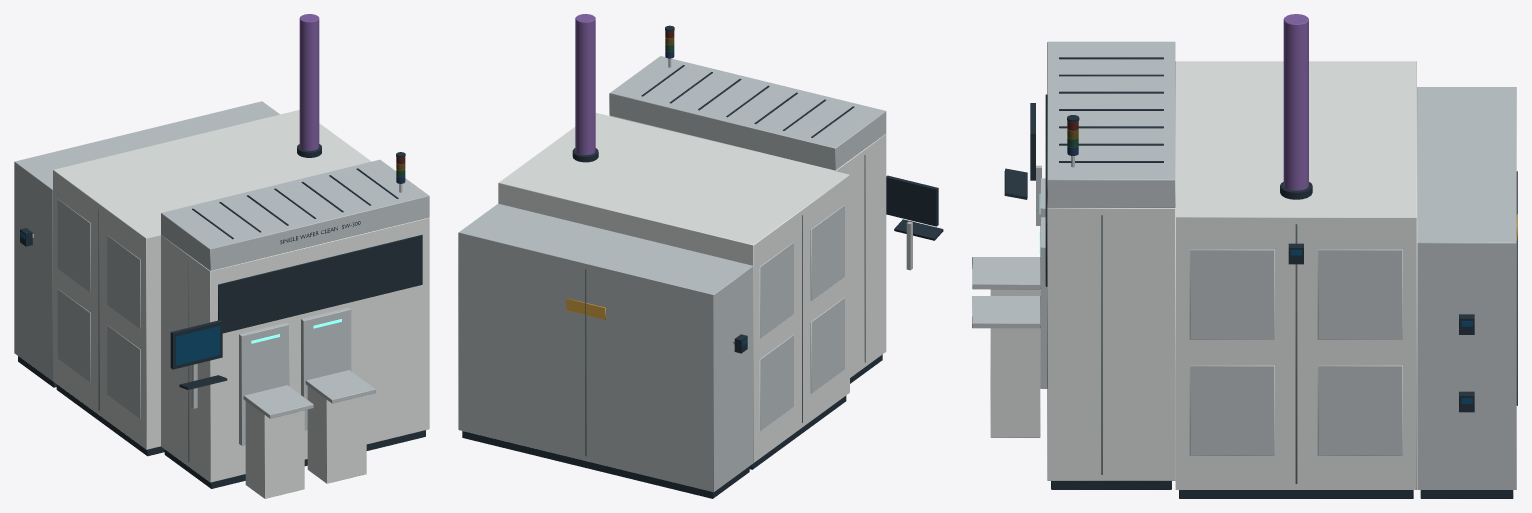
The model's file is fab1-tool-swc.glb.
3 views of the same model, side by side, from view 1: azimuth 30°, elevation 25°; view 2: azimuth 150°, elevation 25°; view 3: azimuth 270°, elevation 25° (orthographic). The views are drawn at different scales.
Visible parts, largest first — view 1: TOOL_SWC_EFEM, TOOL_SWC_Tower, TOOL_SWC_LoadPorts, TOOL_SWC_ChemCabinet, TOOL_SWC_Operator, TOOL_HMI_Screen; view 2: TOOL_SWC_ChemCabinet, TOOL_SWC_Tower, TOOL_SWC_EFEM, TOOL_SWC_Operator; view 3: TOOL_SWC_Tower, TOOL_SWC_EFEM, TOOL_SWC_ChemCabinet, TOOL_SWC_LoadPorts, TOOL_SWC_Operator.
Part boxes in pixels (bbox=[...]): TOOL_SWC_EFEM: bbox=[161, 159, 429, 488]; TOOL_SWC_Tower: bbox=[53, 14, 371, 456]; TOOL_SWC_LoadPorts: bbox=[239, 307, 375, 498]; TOOL_SWC_ChemCabinet: bbox=[14, 101, 279, 387]; TOOL_SWC_Operator: bbox=[170, 320, 227, 408]; TOOL_HMI_Screen: bbox=[176, 326, 219, 365]; TOOL_SWC_ChemCabinet: bbox=[458, 203, 753, 498]; TOOL_SWC_Tower: bbox=[498, 14, 849, 469]; TOOL_SWC_EFEM: bbox=[609, 56, 886, 383]; TOOL_SWC_Operator: bbox=[886, 175, 943, 270]; TOOL_SWC_Tower: bbox=[1175, 14, 1416, 498]; TOOL_SWC_EFEM: bbox=[1045, 41, 1175, 489]; TOOL_SWC_ChemCabinet: bbox=[1417, 87, 1517, 498]; TOOL_SWC_LoadPorts: bbox=[972, 178, 1047, 437]; TOOL_SWC_Operator: bbox=[1004, 103, 1041, 225].
Size of the model in its own units: 3.02 by 3.55 by 3.84.
Materials: 3 (1 with a texture image).
